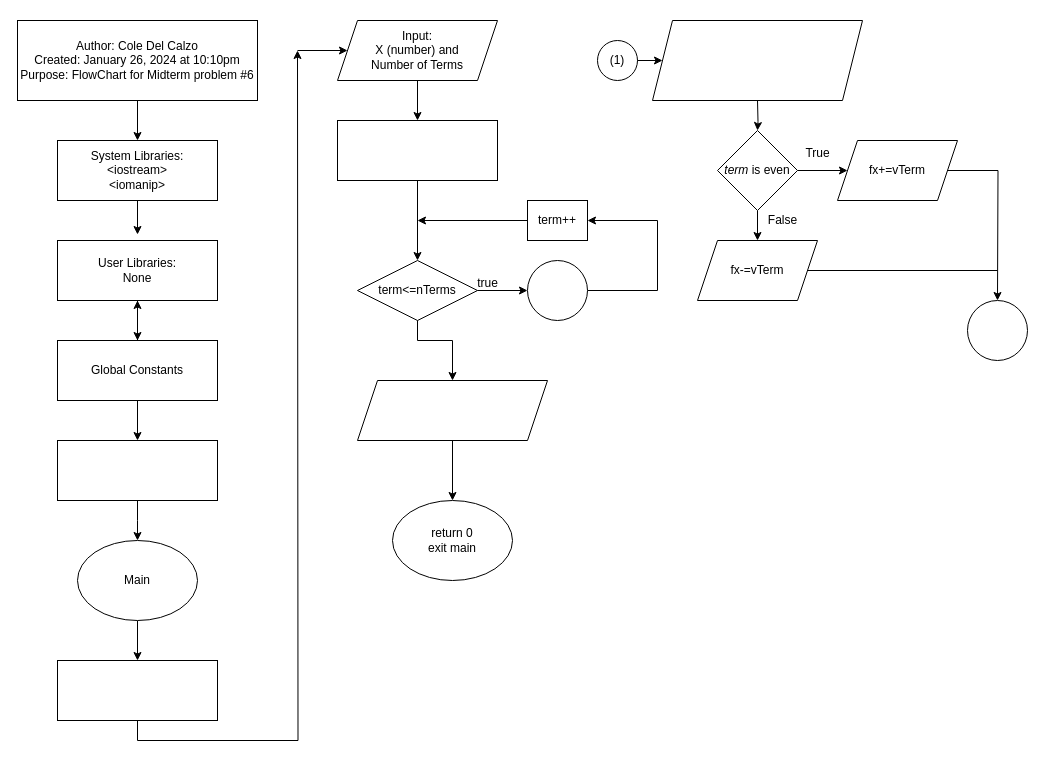
Image size: 1045x766. Some labels were removed from this diagram. Each missing label, with the centre of its shape:
"back to for loop (1)" goes at (997,330).
"cout<<setprecision(6) <<fixed<<fx<<endl;" goes at (452,410).
"Declare Variables: x , fx, term, vTerm, oddTerm, evnTerm, nTerm" goes at (137,690).
"for loop (1)" goes at (557,290).
"Function Prototypes: None" goes at (137,470).
"int term=1" goes at (417,150).
"vTerm*=x/oddTerm*(x/evnTerm); oddTerm+=2; evnTerm=oddTerm-1;" goes at (757,60).
